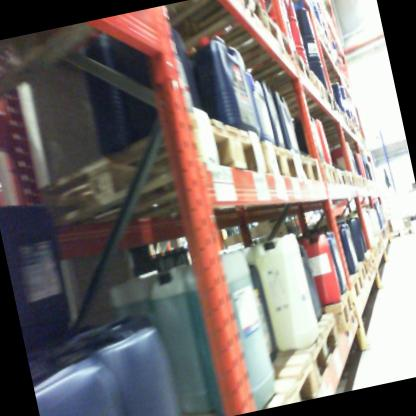pallet: (19, 85, 276, 256), (19, 0, 271, 89), (267, 297, 355, 388), (218, 2, 295, 85), (246, 347, 334, 409), (254, 36, 318, 102), (269, 67, 330, 132), (258, 128, 299, 196), (289, 136, 325, 194), (320, 284, 361, 330), (310, 146, 341, 197), (349, 262, 370, 301), (323, 84, 340, 126), (332, 161, 350, 196), (387, 222, 416, 242), (355, 256, 372, 285), (363, 246, 378, 276), (343, 165, 358, 194)
